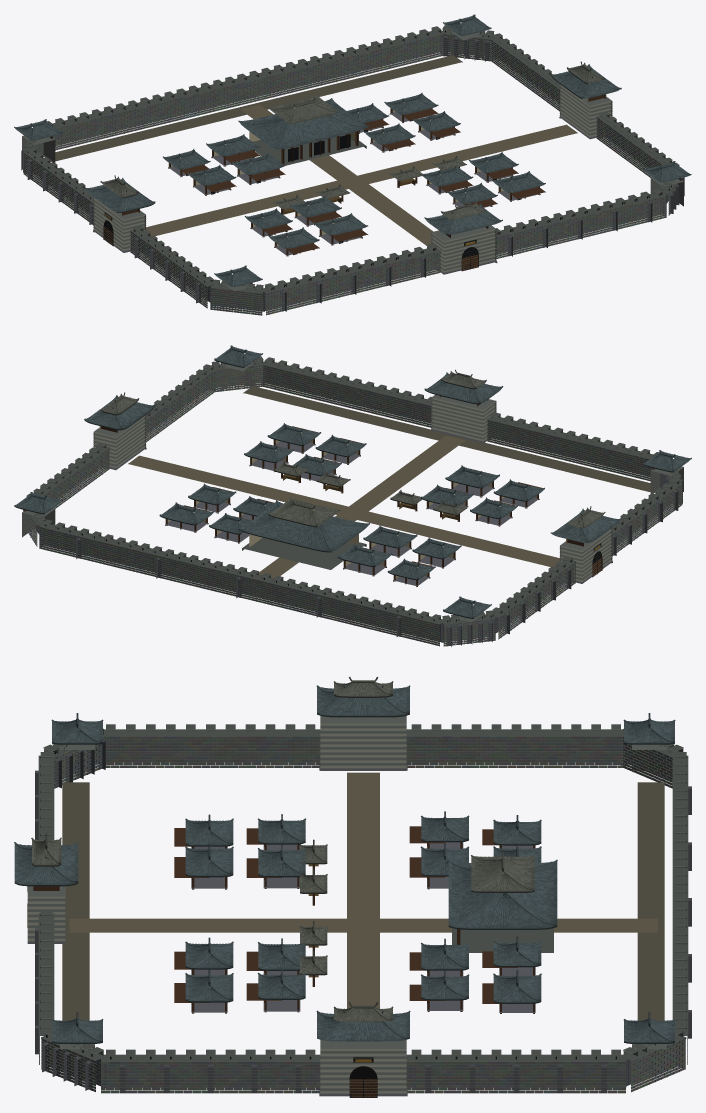
The model's file is TRB7-CITY-WEST-001-v8.glb.
The picture shows the model from 3 angles, top to bottom: view 1: azimuth 30°, elevation 25°; view 2: azimuth 150°, elevation 25°; view 3: azimuth 270°, elevation 25°; orthographic projection. The views are drawn at different scales.
Visible parts, largest first — view 1: TRB7-CITY-WEST-001-v8; view 2: TRB7-CITY-WEST-001-v8; view 3: TRB7-CITY-WEST-001-v8.
Part boxes in pixels (x1,y1,x2,y2): TRB7-CITY-WEST-001-v8: (14,14,691,315); TRB7-CITY-WEST-001-v8: (14,345,691,646); TRB7-CITY-WEST-001-v8: (14,677,691,1097).
Bounding box in the file's own units: 36.87 × 4.34 × 29.94.
